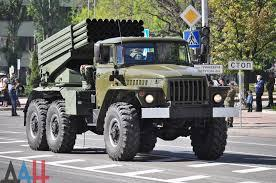MIL_SAM_TEL: (29, 16, 232, 159)
